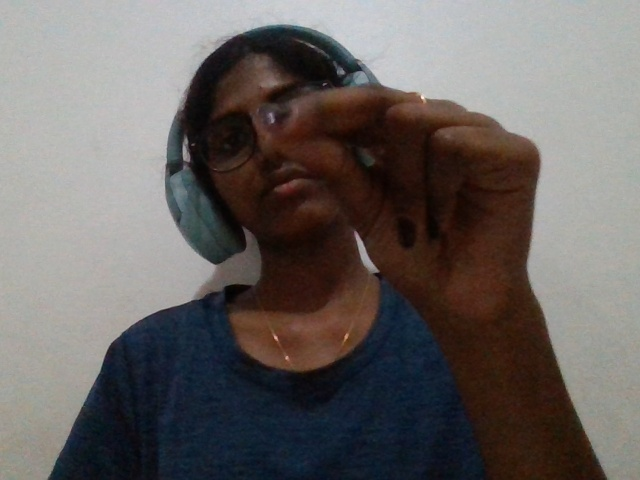No: (220, 75, 593, 400)
